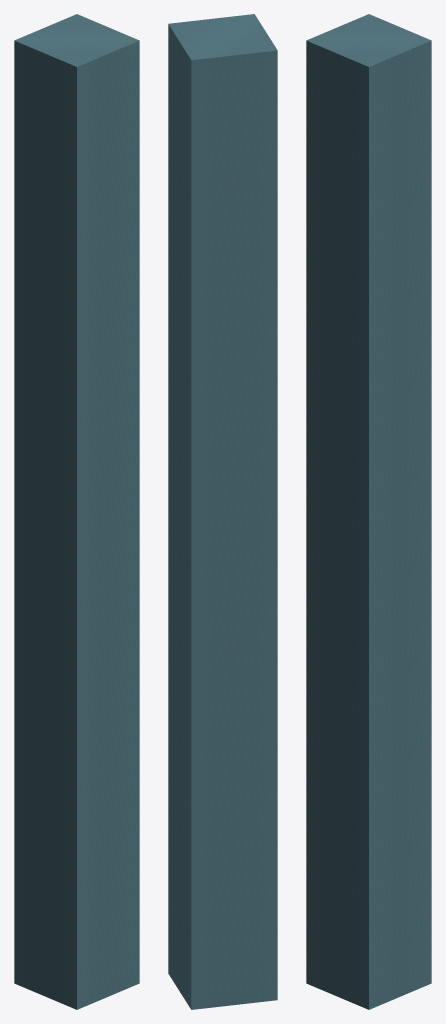
The model's file is atlas100-s048-a05.lod2.glb.
The picture shows the model from 3 angles, left to right: view 1: azimuth 90°, elevation 25°; view 2: azimuth 150°, elevation 25°; view 3: azimuth 270°, elevation 25°; orthographic projection.
Visible parts, largest first — view 1: atlas100-s048-a05:part-000; view 2: atlas100-s048-a05:part-000; view 3: atlas100-s048-a05:part-000.
Boxes of the visible parts, x1,y1,x2,y2 form: atlas100-s048-a05:part-000: (14,14,139,1009); atlas100-s048-a05:part-000: (168,14,277,1009); atlas100-s048-a05:part-000: (306,14,431,1009).
Bounding box in the file's own units: 0.0764 × 0.6334 × 0.0764.
Materials: 1 (1 with a texture image).
